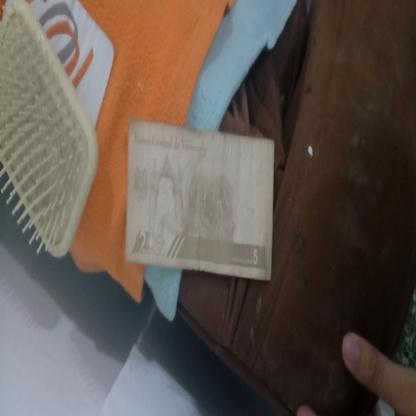five-back-vef: (125, 119, 274, 280)
